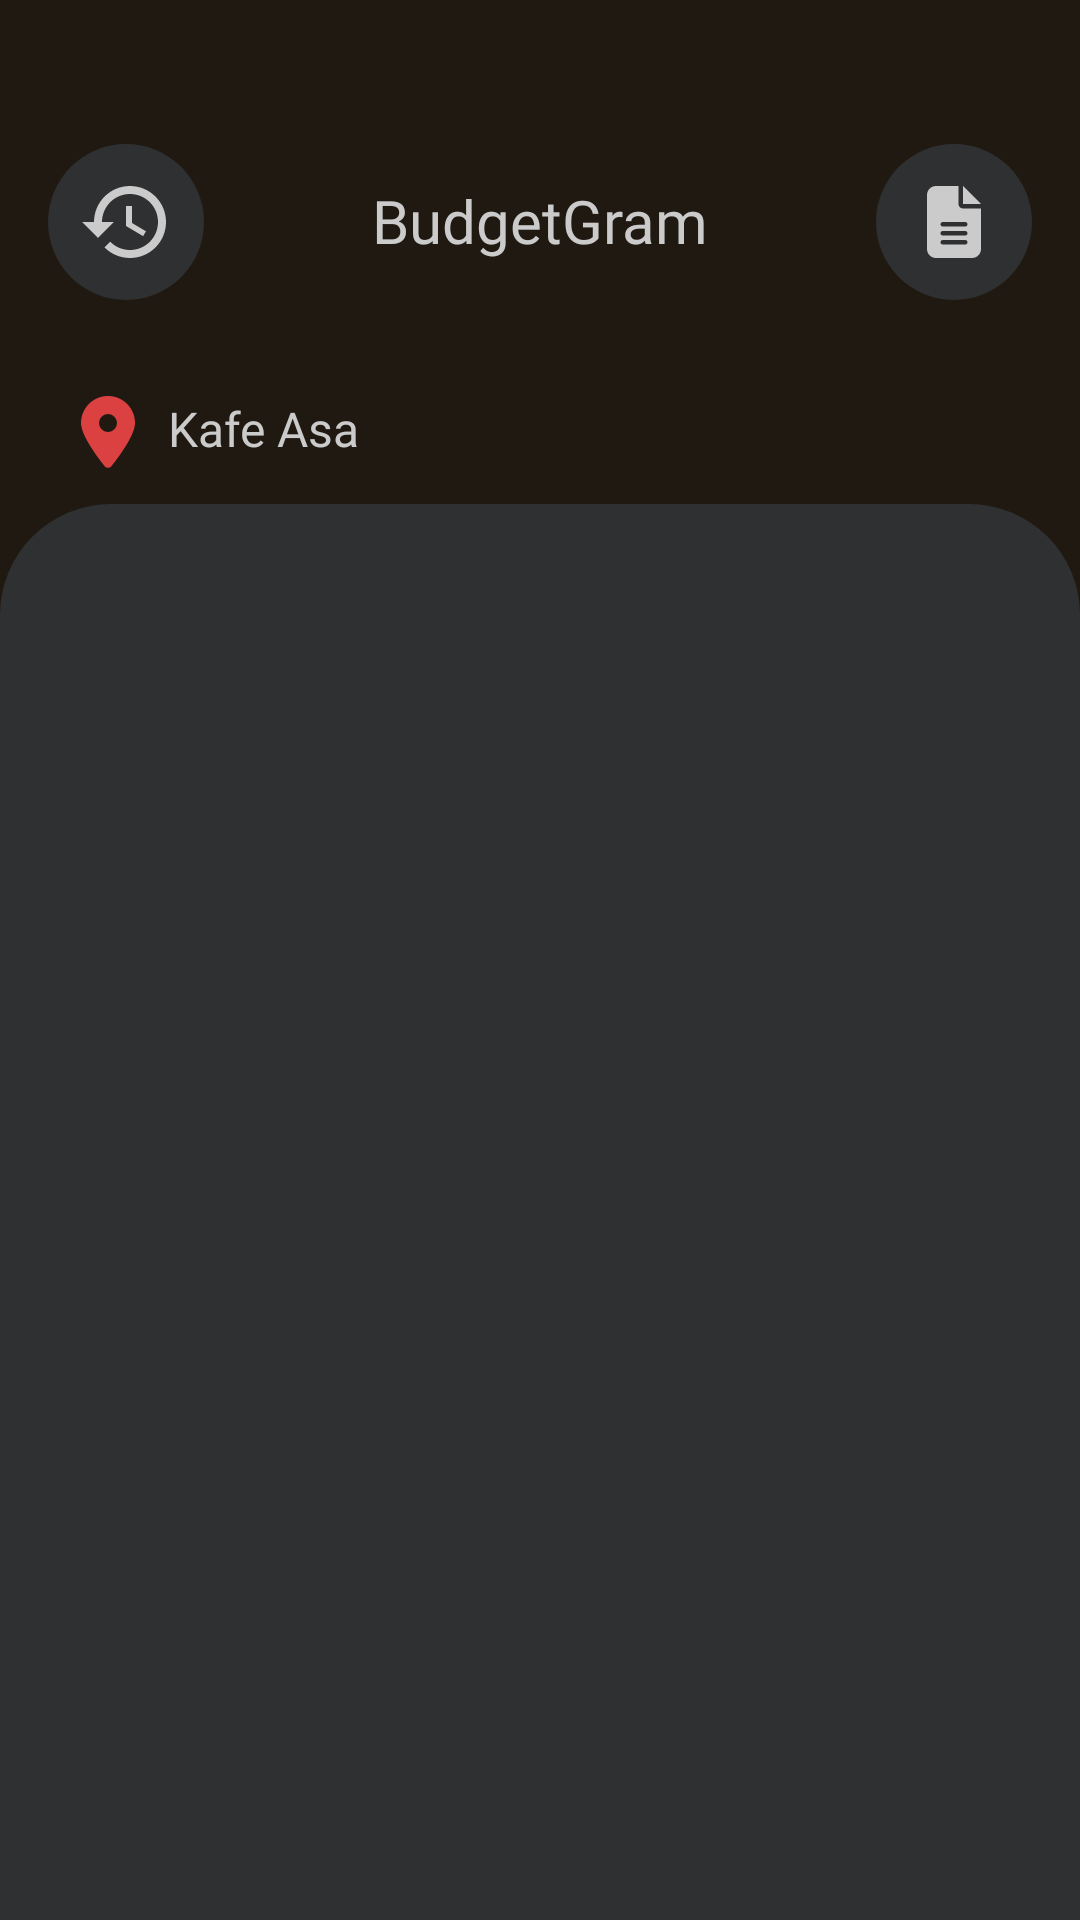

Icon click points for this 1080x1920 phone screenshot, format (x=x, y=y):
History Button: (x=126, y=222)
location dot: (x=108, y=432)
